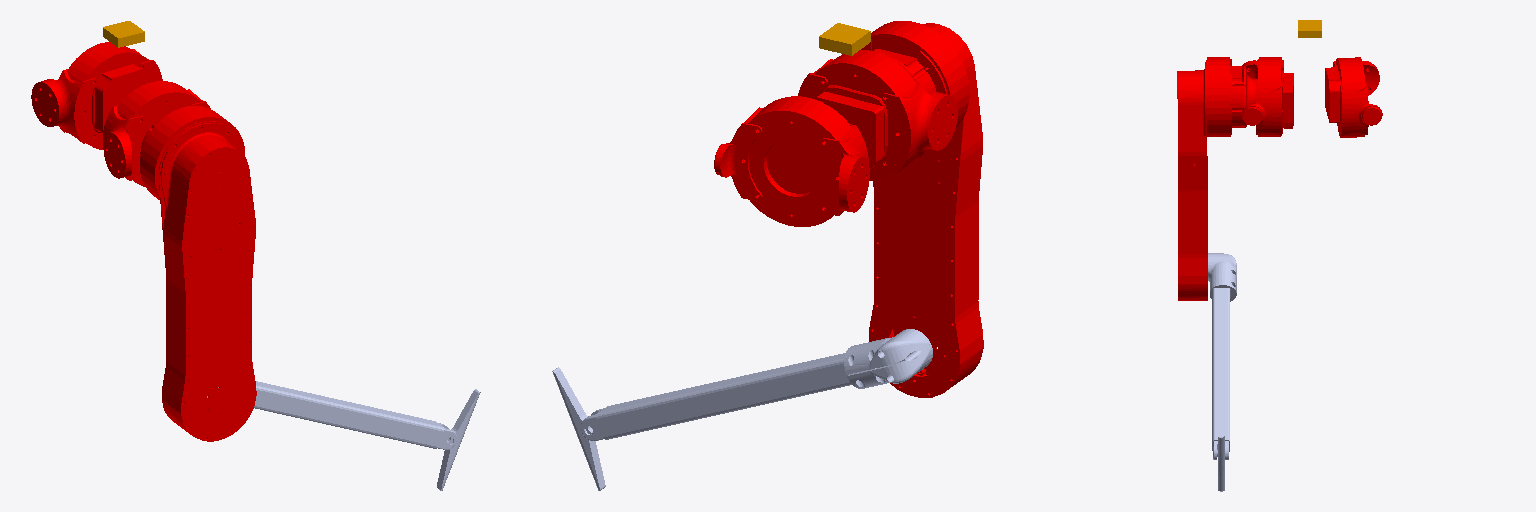
URDF robot description (biped):
<?xml version="1.0" encoding="utf-8"?>
<robot
  name="biped">

  <!-- Imu -->
  <link name="imu">
    <visual>
      <origin xyz="0 0 0" rpy="0 0 0"/>
      <geometry>
      <box size="0.03 0.03 0.01"/>
      </geometry>
      <material name="red"/>
    </visual>

    <inertial>
      <mass value="0.01" />
      <origin xyz="0 0 0" rpy="0 0 0"/>
      <inertia ixx="1e-5" ixy="0" ixz="0" iyy="1e-5" iyz="0" izz="1e-5" />
    </inertial>
  </link>

  <joint name="imu_joint" type="fixed">
      <origin xyz="0 0 0" rpy="-3.141592 0 0"/>
      <parent link="base_link"/>
      <child link="imu"/>
  </joint>
    
  <link
    name="base_link">
    <inertial>
      <origin
        xyz="-0.000639394470299467 -2.37318373953936E-09 0.0465153734772294"
        rpy="0 0 0" />
      <mass
        value="6.2" />
      <inertia
        ixx="0.0451858842619121"
        ixy="4.25989822959874E-07"
        ixz="0.00342824655830176"
        iyy="0.0516151579525598"
        iyz="2.11360864436647E-09"
        izz="0.07770577553124" />
    </inertial>
    <visual>
      <origin
        xyz="0 0 0"
        rpy="0 0 0" />
      <geometry>
        <mesh
          filename="package://biped_robot_description/meshes_old/base_link.STL" />
      </geometry>
      <material
        name="">
        <color
          rgba="0.792156862745098 0.819607843137255 0.933333333333333 1" />
      </material>
    </visual>
    <collision>
      <origin
        xyz="0 0 0"
        rpy="0 0 0" />
      <geometry>
        <mesh
          filename="package://biped_robot_description/meshes_old/base_link.STL" />
      </geometry>
    </collision>
  </link>
  <link
    name="R_HIP">
    <inertial>
      <origin
        xyz="-0.04439 -4.3944E-05 -0.063969"
        rpy="0 0 0" />
      <mass
        value="0.35434" />
      <inertia
        ixx="0.00038957"
        ixy="2.8341E-07"
        ixz="4.8692E-05"
        iyy="0.00044213"
        iyz="6.378E-08"
        izz="0.00039356" />
    </inertial>
    <visual>
      <origin
        xyz="0 0 0"
        rpy="0 0 0" />
      <geometry>
        <mesh
          filename="package://biped_robot_description/meshes_old/R_HIP.STL" />
      </geometry>
      <material
        name="">
        <color
          rgba="0.69804 0.69804 0.69804 1" />
      </material>
    </visual>
    <collision>
      <origin
        xyz="0 0 0"
        rpy="0 0 0" />
      <geometry>
        <mesh
          filename="package://biped_robot_description/meshes_old/R_HIP.STL" />
      </geometry>
    </collision>
  </link>
  <joint
    name="R_YAW"
    type="revolute">
    <origin
      xyz="0 -0.0700000000000001 -0.0157999999999999"
      rpy="0 0 0" />
    <parent
      link="base_link" />
    <child
      link="R_HIP" />
        <limit effort="1000" lower="-0.3" upper="0.3" velocity="1000"/>
    <axis
      xyz="0 0 1" />
  </joint>
  <link
    name="R_SHOULDER">
    <inertial>
      <origin
        xyz="0.0084801 0.022635 -0.00077539"
        rpy="0 0 0" />
      <mass
        value="0.30702" />
      <inertia
        ixx="0.0002067"
        ixy="2.1989E-06"
        ixz="1.1262E-07"
        iyy="0.0003195"
        iyz="4.3332E-06"
        izz="0.00019771" />
    </inertial>
    <visual>
      <origin
        xyz="0 0 0"
        rpy="0 0 0" />
      <geometry>
        <mesh
          filename="package://biped_robot_description/meshes_old/R_SHOULDER.STL" />
      </geometry>
      <material
        name="">
        <color
          rgba="1 0 0 1" />
      </material>
    </visual>
    <collision>
      <origin
        xyz="0 0 0"
        rpy="0 0 0" />
      <geometry>
        <mesh
          filename="package://biped_robot_description/meshes_old/R_SHOULDER.STL" />
      </geometry>
    </collision>
  </link>
  <joint
    name="R_HAA"
    type="revolute">
    <origin
      xyz="0 0 -0.073"
      rpy="0 0 0" />
    <parent
      link="R_HIP" />
    <child
      link="R_SHOULDER" />
    <axis
      xyz="1 0 0" />
    <limit effort="1000" lower="-0.25" upper="0.25" velocity="1000"/>
  </joint>
  <link
    name="R_UPPER_LEG">
    <inertial>
      <origin
        xyz="0.00999917539850848 -0.0491846654467433 -0.0389251527043696"
        rpy="0 0 0" />
      <mass
        value="0.459365802658862" />
      <inertia
        ixx="0.00143336057712295"
        ixy="5.12867175943416E-10"
        ixz="6.11565816341328E-08"
        iyy="0.00166768021821664"
        iyz="7.98881842482862E-06"
        izz="0.000320094254580036" />
    </inertial>
    <visual>
      <origin
        xyz="0 0 0"
        rpy="0 0 0" />
      <geometry>
        <mesh
          filename="package://biped_robot_description/meshes_old/R_UPPER_LEG.STL" />
      </geometry>
      <material
        name="">
        <color
          rgba="1 0 0 1" />
      </material>
    </visual>
    <collision>
      <origin
        xyz="0 0 0"
        rpy="0 0 0" />
      <geometry>
        <mesh
          filename="package://biped_robot_description/meshes_old/R_UPPER_LEG.STL" />
      </geometry>
    </collision>
  </link>
  <joint
    name="R_HFE"
    type="revolute">
    <origin
      xyz="0 0 0"
      rpy="0 0 0" />
    <parent
      link="R_SHOULDER" />
    <child
      link="R_UPPER_LEG" />
    <axis
      xyz="0 1 0" />
      <limit effort="1000" lower="-1.5" upper="1.5" velocity="1000"/>
  </joint>
  <link
    name="R_LOWER_LEG">
    <inertial>
      <origin
        xyz="8.85333552616378E-06 0.0171411389819433 -0.111259699580943"
        rpy="0 0 0" />
      <mass
        value="0.0911245737715333" />
      <inertia
        ixx="0.000436787158269832"
        ixy="1.05294002111962E-08"
        ixz="1.26662065411541E-08"
        iyy="0.000436804088199172"
        iyz="1.25717901498266E-06"
        izz="1.5386338329274E-05" />
    </inertial>
    <visual>
      <origin
        xyz="0 0 0"
        rpy="0 0 0" />
      <geometry>
        <mesh
          filename="package://biped_robot_description/meshes_old/R_LOWER_LEG.STL" />
      </geometry>
      <material
        name="">
        <color
          rgba="0.792156862745098 0.819607843137255 0.933333333333333 1" />
      </material>
    </visual>
    <collision>
      <origin
        xyz="0 0 0"
        rpy="0 0 0" />
      <geometry>
        <mesh
          filename="package://biped_robot_description/meshes_old/R_LOWER_LEG.STL" />
      </geometry>
    </collision>
  </link>
  <joint
    name="R_KFE"
    type="revolute">
    <origin
      xyz="0.01 -0.057399 -0.23429"
      rpy="0 0 0" />
    <parent
      link="R_UPPER_LEG" />
    <child
      link="R_LOWER_LEG" />
    <axis
      xyz="0 1 0" />
    <limit effort="1000" lower="-2.2" upper="-0.1" velocity="1000"/>
    <!-- <limit effort="1000" lower="0.1" upper="2.2" velocity="1000"/> -->
  </joint>
  <link
    name="R_FOOT">
    <inertial>
      <origin
        xyz="-1.50204329982598E-07 -6.55552252759595E-09 -0.0124757843132849"
        rpy="0 0 0" />
      <mass
        value="0.0001" />
      <inertia
        ixx="2.27156674728489E-07"
        ixy="1.8940555569311E-12"
        ixz="4.6640079123731E-12"
        iyy="4.4396263007081E-06"
        iyz="2.90644772891908E-13"
        izz="4.30705177925079E-06" />
    </inertial>
    <visual>
      <origin
        xyz="0 0 0"
        rpy="0 0 0" />
      <geometry>
        <mesh
          filename="package://biped_robot_description/meshes_old/R_FOOT.STL" />
      </geometry>
      <material
        name="">
        <color
          rgba="0.792156862745098 0.819607843137255 0.933333333333333 1" />
      </material>
    </visual>
    <collision>
      <origin
        xyz="0 0 0"
        rpy="0 0 0" />
      <geometry>
        <mesh
          filename="package://biped_robot_description/meshes_old/R_FOOT.STL" />
      </geometry>
    </collision>
  </link>
  <joint
    name="R_ANKLE"
    type="revolute">
    <origin
      xyz="0 0.0168 -0.30826"
      rpy="0 0 0" />
    <parent
      link="R_LOWER_LEG" />
    <child
      link="R_FOOT" />
    <axis
      xyz="0 1 0" />
    <limit effort="1000" lower="-1.6" upper="1.6" velocity="1000"/>
  </joint>
  <link name="R_FOOT_CONTACT"></link>
  <joint
    name="R_FOOT_CONTACT_JOINT"
    type="fixed">
    <origin
      xyz="0 0.0 -0.32"
      rpy="0 0 0" />
    <parent link="R_LOWER_LEG" />
    <child link="R_FOOT_CONTACT" />
  </joint>
  <link
    name="L_HIP">
    <inertial>
      <origin
        xyz="-0.04439 -4.3944E-05 -0.063969"
        rpy="0 0 0" />
      <mass
        value="0.35434" />
      <inertia
        ixx="0.00038957"
        ixy="2.8341E-07"
        ixz="4.8692E-05"
        iyy="0.00044213"
        iyz="6.378E-08"
        izz="0.00039356" />
    </inertial>
    <visual>
      <origin
        xyz="0 0 0"
        rpy="0 0 0" />
      <geometry>
        <mesh
          filename="package://biped_robot_description/meshes_old/L_HIP.STL" />
      </geometry>
      <material
        name="">
        <color
          rgba="1 1 1 1" />
      </material>
    </visual>
    <collision>
      <origin
        xyz="0 0 0"
        rpy="0 0 0" />
      <geometry>
        <mesh
          filename="package://biped_robot_description/meshes_old/L_HIP.STL" />
      </geometry>
    </collision>
  </link>
  <joint
    name="L_YAW"
    type="revolute">
    <origin
      xyz="0 0.07 -0.0158"
      rpy="0 0 0" />
    <parent
      link="base_link" />
    <child
      link="L_HIP" />
    <axis
      xyz="0 0 1" />
    <limit effort="1000" lower="-0.3" upper="0.3" velocity="1000"/>
  </joint>
  <link
    name="L_SHOULDER">
    <inertial>
      <origin
        xyz="0.0104369980559036 -0.0218020195475164 0.000775390834242926"
        rpy="0 0 0" />
      <mass
        value="0.307022440099937" />
      <inertia
        ixx="0.000207959995155771"
        ixy="1.20422626794703E-05"
        ixz="4.9308909073799E-07"
        iyy="0.000318246373210611"
        iyz="4.3064865095476E-06"
        izz="0.000197712953246141" />
    </inertial>
    <visual>
      <origin
        xyz="0 0 0"
        rpy="0 0 0" />
      <geometry>
        <mesh
          filename="package://biped_robot_description/meshes_old/L_SHOULDER.STL" />
      </geometry>
      <material
        name="">
        <color
          rgba="1 0 0 1" />
      </material>
    </visual>
    <collision>
      <origin
        xyz="0 0 0"
        rpy="0 0 0" />
      <geometry>
        <mesh
          filename="package://biped_robot_description/meshes_old/L_SHOULDER.STL" />
      </geometry>
    </collision>
  </link>
  <joint
    name="L_HAA"
    type="revolute">
    <origin
      xyz="0 0 -0.073"
      rpy="0 0 0" />
    <parent
      link="L_HIP" />
    <child
      link="L_SHOULDER" />
    <axis
      xyz="1 0 0" />
    <limit effort="1000" lower="-0.25" upper="0.25" velocity="1000"/>
  </joint>
  <link
    name="L_UPPER_LEG">
    <inertial>
      <origin
        xyz="0.010000111871374 0.0493505287698992 -0.0385952598840397"
        rpy="0 0 0" />
      <mass
        value="0.459365803346259" />
      <inertia
        ixx="0.00143336057683954"
        ixy="7.736743345379E-10"
        ixz="6.1152529062323E-08"
        iyy="0.00166758735207669"
        iyz="1.37461925754045E-05"
        izz="0.000320187121400746" />
    </inertial>
    <visual>
      <origin
        xyz="0 0 0"
        rpy="0 0 0" />
      <geometry>
        <mesh
          filename="package://biped_robot_description/meshes_old/L_UPPER_LEG.STL" />
      </geometry>
      <material
        name="">
        <color
          rgba="0.792156862745098 0.819607843137255 0.933333333333333 1" />
      </material>
    </visual>
    <collision>
      <origin
        xyz="0 0 0"
        rpy="0 0 0" />
      <geometry>
        <mesh
          filename="package://biped_robot_description/meshes_old/L_UPPER_LEG.STL" />
      </geometry>
    </collision>
  </link>
  <joint
    name="L_HFE"
    type="revolute">
    <origin
      xyz="0 0 0"
      rpy="0 0 0" />
    <parent
      link="L_SHOULDER" />
    <child
      link="L_UPPER_LEG" />
    <axis
      xyz="0 1 0" />
    <limit effort="1000" lower="-1.5" upper="1.5" velocity="1000"/>
  </joint>
  <link
    name="L_LOWER_LEG">
    <inertial>
      <origin
        xyz="-8.8533379014686E-06 -0.0171411389745038 -0.111259699612872"
        rpy="0 0 0" />
      <mass
        value="0.0911245737414644" />
      <inertia
        ixx="0.00043678715826298"
        ixy="1.05294010947744E-08"
        ixz="1.26662071930063E-08"
        iyy="0.000436804088197728"
        iyz="1.25717901206459E-06"
        izz="1.53863383236652E-05" />
    </inertial>
    <visual>
      <origin
        xyz="0 0 0"
        rpy="0 0 0" />
      <geometry>
        <mesh
          filename="package://biped_robot_description/meshes_old/L_LOWER_LEG.STL" />
      </geometry>
      <material
        name="">
        <color
          rgba="0.792156862745098 0.819607843137255 0.933333333333333 1" />
      </material>
    </visual>
    <collision>
      <origin
        xyz="0 0 0"
        rpy="0 0 0" />
      <geometry>
        <mesh
          filename="package://biped_robot_description/meshes_old/L_LOWER_LEG.STL" />
      </geometry>
    </collision>
  </link>
  <joint
    name="L_KFE"
    type="revolute">
    <origin
      xyz="0.0099993 0.0584 -0.23393"
      rpy="0 0 0" />
    <parent
      link="L_UPPER_LEG" />
    <child
      link="L_LOWER_LEG" />
    <axis
      xyz="0 1 0" />
    <limit effort="1000" lower="-2.2" upper="-0.1" velocity="1000"/>
    <!-- <limit effort="1000" lower="0.1" upper="2.2" velocity="1000"/> -->
  </joint>
  <link
    name="L_FOOT">
    <inertial>
      <origin
        xyz="1.50204329408404E-07 6.55552259698489E-09 -0.0124757843132849"
        rpy="0 0 0" />
      <mass
        value="0.0001" />
      <inertia
        ixx="2.27156674728491E-07"
        ixy="1.89405555797E-12"
        ixz="4.66400790097924E-12"
        iyy="4.43962630070825E-06"
        iyz="2.90644772485E-13"
        izz="4.30705177925094E-06" />
    </inertial>
    <visual>
      <origin
        xyz="0 0 0"
        rpy="0 0 0" />
      <geometry>
        <mesh
          filename="package://biped_robot_description/meshes_old/L_FOOT.STL" />
      </geometry>
      <material
        name="">
        <color
          rgba="0.792156862745098 0.819607843137255 0.933333333333333 1" />
      </material>
    </visual>
    <collision>
      <origin
        xyz="0 0 0"
        rpy="0 0 0" />
      <geometry>
        <mesh
          filename="package://biped_robot_description/meshes_old/L_FOOT.STL" />
      </geometry>
    </collision>
  </link>
  <joint
    name="L_ANKLE"
    type="revolute">
    <origin
      xyz="0 -0.0168 -0.30826"
      rpy="0 0 0" />
    <parent
      link="L_LOWER_LEG" />
    <child
      link="L_FOOT" />
    <axis
      xyz="0 1 0" />
    <limit effort="1000" lower="-1.6" upper="1.6" velocity="1000"/>
  </joint>
  <link name="L_FOOT_CONTACT"></link>
  <joint
    name="L_FOOT_CONTACT_JOINT"
    type="fixed">
    <origin
      xyz="0 0.0 -0.32"
      rpy="0 0 0" />
    <parent link="L_LOWER_LEG" />
    <child link="L_FOOT_CONTACT" />
  </joint>
</robot>

--- What the picture shows (computed from the rendered views, not written in the file) ---
Views: 3 orthographic renders of the robot side by side, from view 1: azimuth 30°, elevation 25°; view 2: azimuth 150°, elevation 25°; view 3: azimuth 270°, elevation 25°.
Robot: biped — 14 links, 13 joints (10 revolute, 3 fixed); root link base_link; default pose: all joints at 0 but 2 set to mid-range because 0 is outside their limits (R_KFE = -1.15, L_KFE = -1.15).
Links seen in each view (by area): view 1: R_UPPER_LEG, L_SHOULDER, R_LOWER_LEG, R_SHOULDER, R_FOOT, imu; view 2: R_UPPER_LEG, L_SHOULDER, R_LOWER_LEG, R_SHOULDER, R_FOOT, imu; view 3: R_UPPER_LEG, R_LOWER_LEG, L_SHOULDER, R_SHOULDER.
Link boxes in pixels (x1,y1,x2,y2): R_UPPER_LEG: (140,106,256,441); L_SHOULDER: (31,42,162,149); R_LOWER_LEG: (207,381,456,449); R_SHOULDER: (103,81,210,186); R_FOOT: (437,389,480,490); imu: (103,21,144,47); R_UPPER_LEG: (861,21,983,397); L_SHOULDER: (714,96,869,226); R_LOWER_LEG: (581,329,932,440); R_SHOULDER: (798,50,957,180); R_FOOT: (552,367,605,490); imu: (819,23,870,55); R_UPPER_LEG: (1177,57,1257,300); R_LOWER_LEG: (1208,253,1236,459); L_SHOULDER: (1325,57,1382,137); R_SHOULDER: (1242,57,1293,136).
Size in the robot's own frame: 0.3814 by 0.2562 by 0.5085 metres.
5 mesh visuals loaded from 11 distinct referenced files (5 binary STL); not drawn: 6 (reference not matched to a file when rendering).